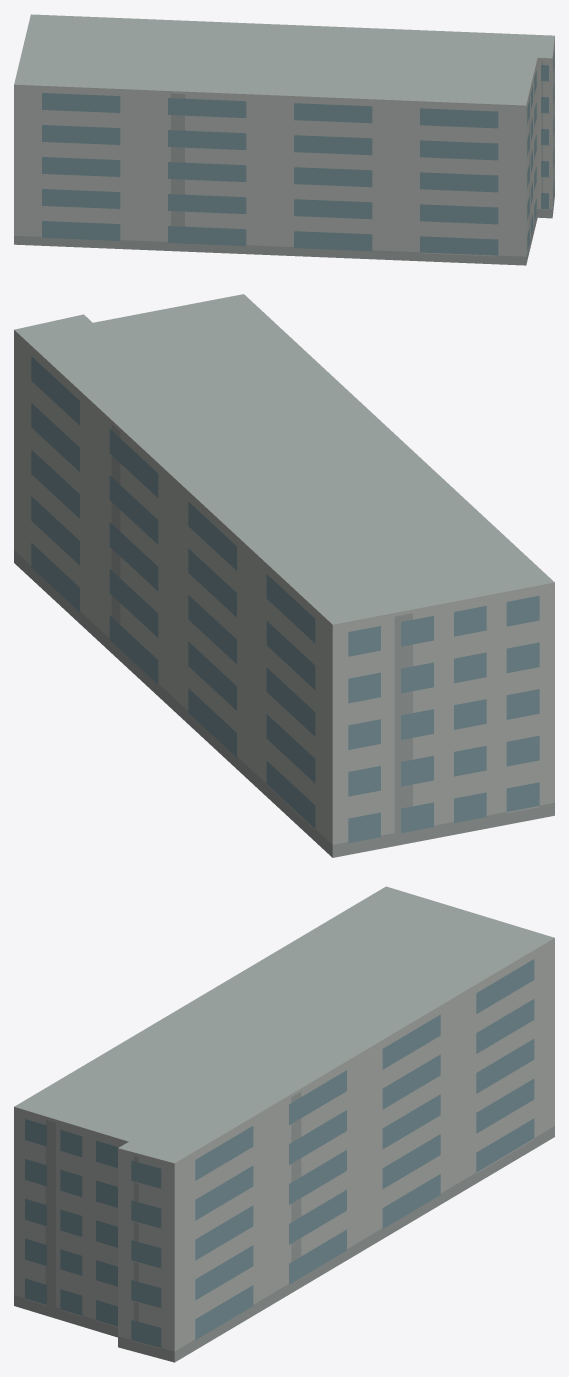
File: survey-upis-32592487.glb
3 views of the same model, one above another, from view 1: azimuth 30°, elevation 25°; view 2: azimuth 150°, elevation 25°; view 3: azimuth 270°, elevation 25° (orthographic). The views are drawn at different scales.
Visible parts, largest first — view 1: survey-upis-32592487.tmp; view 2: survey-upis-32592487.tmp; view 3: survey-upis-32592487.tmp.
Boxes of the visible parts, x1,y1,x2,y2 form: survey-upis-32592487.tmp: [14, 14, 554, 265]; survey-upis-32592487.tmp: [14, 294, 554, 857]; survey-upis-32592487.tmp: [14, 886, 554, 1362].
Size of the model in its own units: 45.49 by 15.25 by 37.54.
